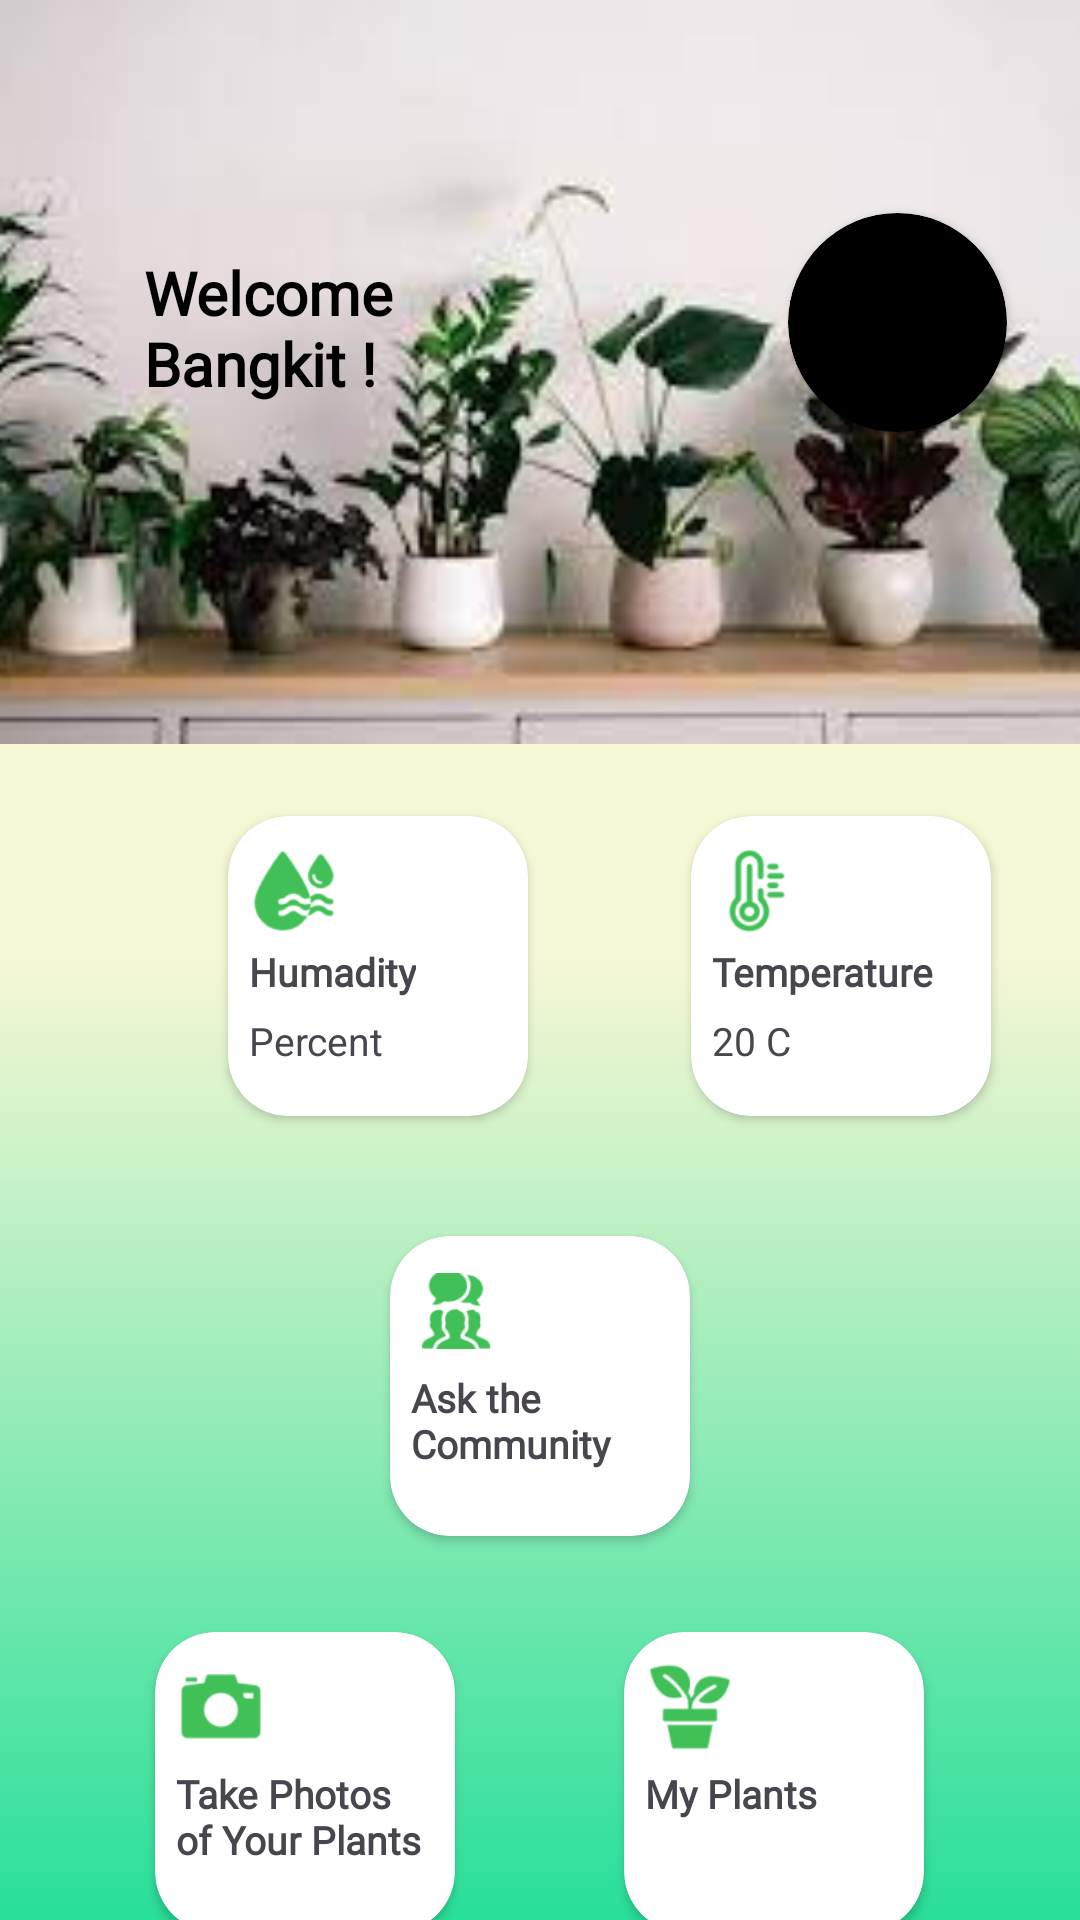

Icon bounding boxes for this 1080×1920 phone screenshot, format (x1, y1, x2, y2):
camera: (181, 1674, 261, 1739)
